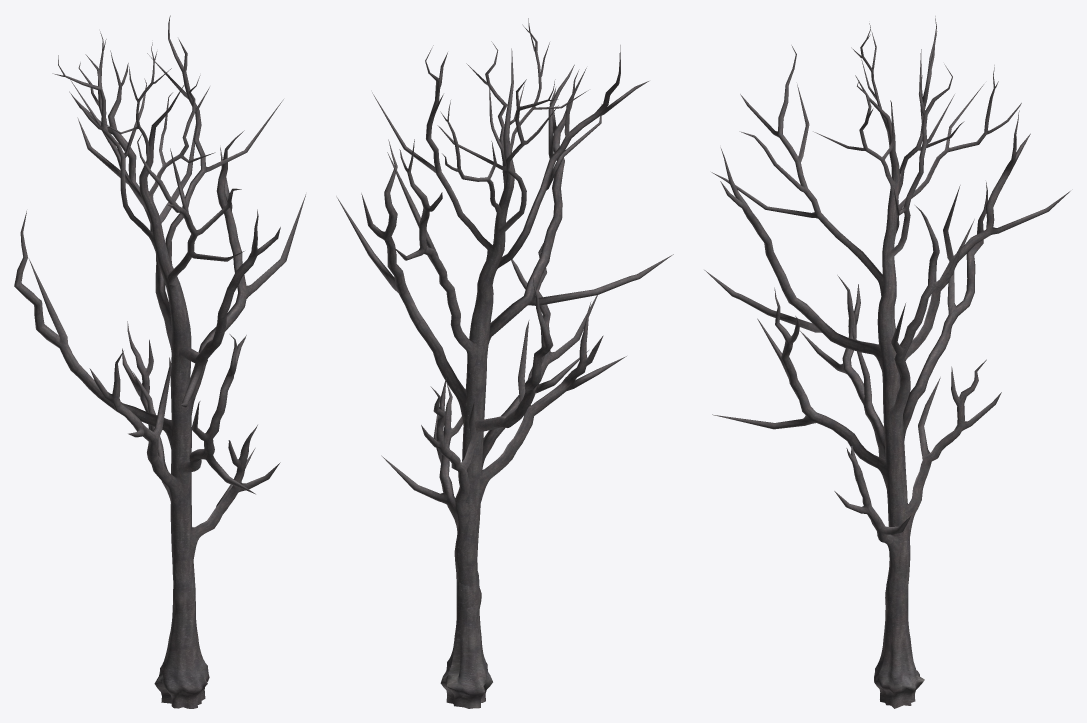
3 views of the same model, side by side, from view 1: azimuth 30°, elevation 25°; view 2: azimuth 150°, elevation 25°; view 3: azimuth 270°, elevation 25° (orthographic). The views are drawn at different scales.
Parts seen in each view (by area): view 1: SM_FH_Ash_Tree_Bare_01_LOD0; view 2: SM_FH_Ash_Tree_Bare_01_LOD0; view 3: SM_FH_Ash_Tree_Bare_01_LOD0.
Boxes of the visible parts, box(x1,y1,x2,y2) form: SM_FH_Ash_Tree_Bare_01_LOD0: box(14, 15, 305, 708); SM_FH_Ash_Tree_Bare_01_LOD0: box(336, 18, 673, 708); SM_FH_Ash_Tree_Bare_01_LOD0: box(704, 16, 1070, 708).
Bounding box in the file's own units: 6.22 × 15.97 × 8.12.
Materials: 1 (1 with a texture image).
